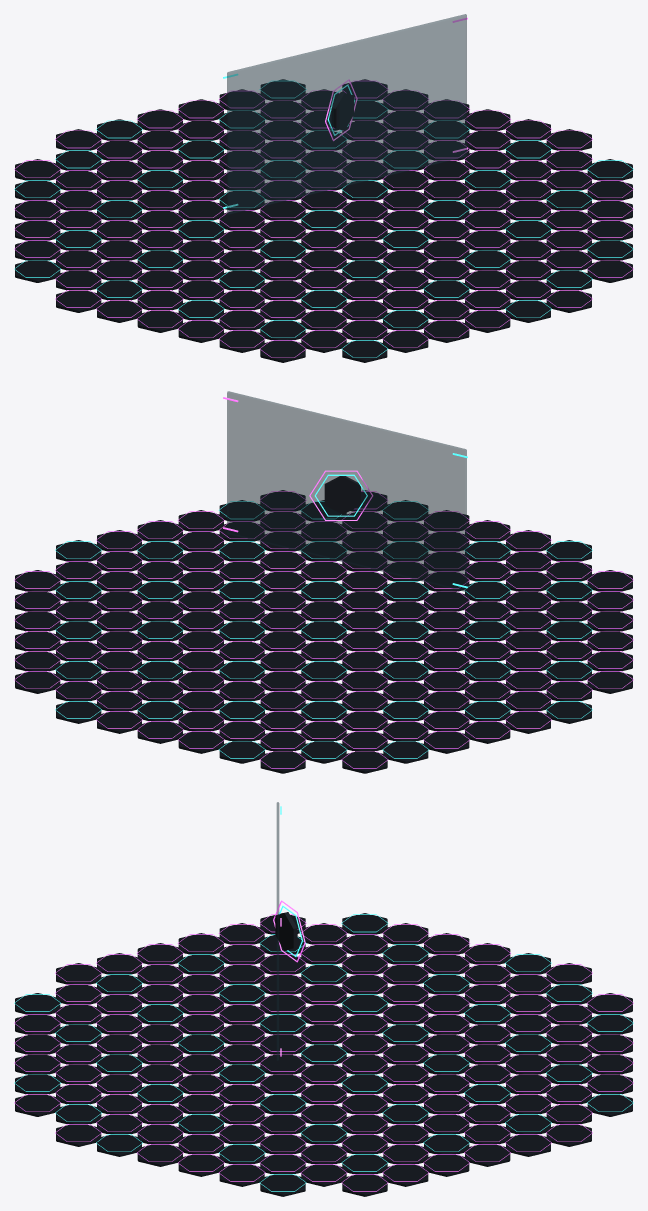
File: Synomize_Blender_Direct_v2.glb
3 views of the same model, one above another, from view 1: azimuth 30°, elevation 25°; view 2: azimuth 150°, elevation 25°; view 3: azimuth 270°, elevation 25° (orthographic).
Visible parts, largest first — view 1: MuseumGlassPanelV2, Cylinder.143, Cylinder.145, Cylinder.155, Cylinder.147, Cylinder.157, Cylinder.151, Cylinder.127, Cylinder.149, Cylinder.137, Cylinder.141, Cylinder.133 (+153 smaller); view 2: MuseumGlassPanelV2, Cylinder.163, Cylinder.132, Cylinder.134, Cylinder.127, Cylinder.129, Cylinder.131, Cylinder.136, Cylinder.138, Cylinder.144, Cylinder.133, Cylinder.146 (+152 smaller); view 3: MuseumGlassPanelV2, Cylinder.156, Cylinder.162, Cylinder.150, Cylinder.159, Cylinder.146, Cylinder.157, Cylinder.144, Cylinder.155, Cylinder.161, Cylinder.152, Cylinder.154 (+151 smaller).
Boxes of the visible parts, x1,y1,x2,y2 form: MuseumGlassPanelV2: [227, 14, 466, 214]; Cylinder.143: [260, 339, 305, 362]; Cylinder.145: [342, 338, 387, 362]; Cylinder.155: [546, 289, 591, 312]; Cylinder.147: [383, 329, 428, 352]; Cylinder.157: [587, 259, 632, 282]; Cylinder.151: [465, 308, 510, 332]; Cylinder.127: [15, 259, 60, 282]; Cylinder.149: [424, 319, 469, 342]; Cylinder.137: [137, 309, 182, 332]; Cylinder.141: [219, 328, 264, 352]; Cylinder.133: [56, 289, 101, 312]; MuseumGlassPanelV2: [227, 391, 466, 591]; Cylinder.163: [324, 476, 360, 514]; Cylinder.132: [342, 749, 387, 773]; Cylinder.134: [260, 750, 305, 773]; Cylinder.127: [546, 700, 591, 723]; Cylinder.129: [465, 720, 510, 743]; Cylinder.131: [383, 740, 428, 763]; Cylinder.136: [219, 739, 264, 763]; Cylinder.138: [178, 730, 223, 753]; Cylinder.144: [56, 699, 101, 723]; Cylinder.133: [587, 670, 632, 693]; Cylinder.146: [15, 669, 60, 693]; MuseumGlassPanelV2: [276, 802, 279, 1060]; Cylinder.156: [342, 1173, 387, 1196]; Cylinder.162: [260, 1173, 305, 1196]; Cylinder.150: [465, 1143, 510, 1166]; Cylinder.159: [137, 1143, 182, 1166]; Cylinder.146: [546, 1123, 591, 1146]; Cylinder.157: [56, 1123, 101, 1146]; Cylinder.144: [587, 1093, 632, 1116]; Cylinder.155: [15, 1093, 60, 1116]; Cylinder.161: [219, 1162, 264, 1186]; Cylinder.152: [424, 1153, 469, 1176]; Cylinder.154: [383, 1162, 428, 1186].
Size of the model in its own units: 17.34 by 5.64 by 16.15.
